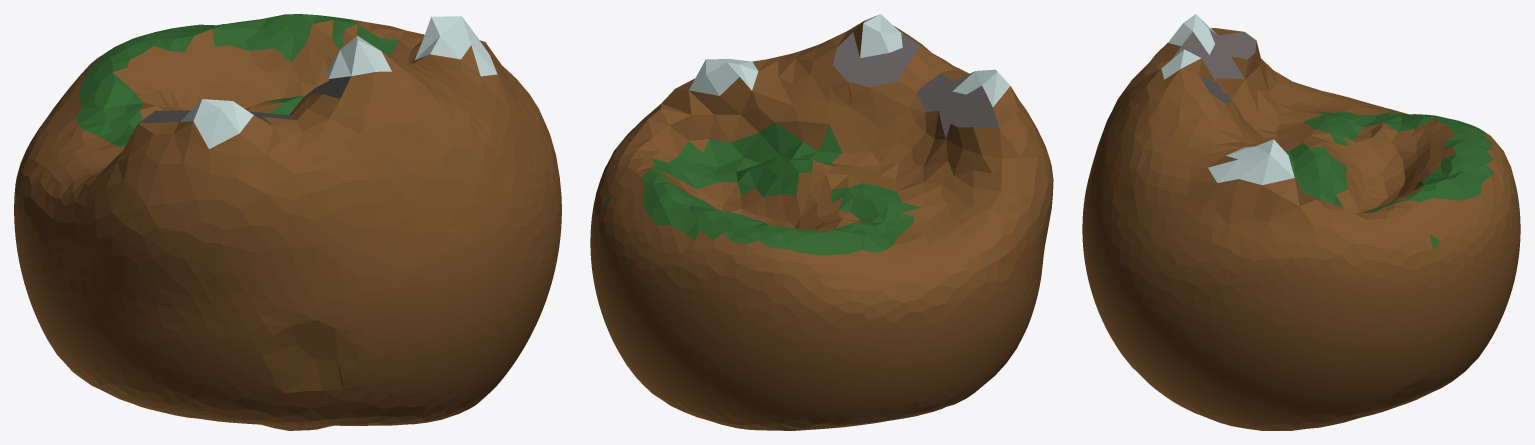
The model's file is nighttry (1).glb.
The picture shows the model from 3 angles, left to right: view 1: azimuth 30°, elevation 25°; view 2: azimuth 150°, elevation 25°; view 3: azimuth 270°, elevation 25°; orthographic projection. The views are drawn at different scales.
Visible parts, largest first — view 1: Icosphere; view 2: Icosphere; view 3: Icosphere.
Boxes of the visible parts, x1,y1,x2,y2 form: Icosphere: (14, 14, 561, 430); Icosphere: (590, 14, 1053, 430); Icosphere: (1082, 14, 1520, 430).
Size of the model in its own units: 7.06 by 5.75 by 7.06.
